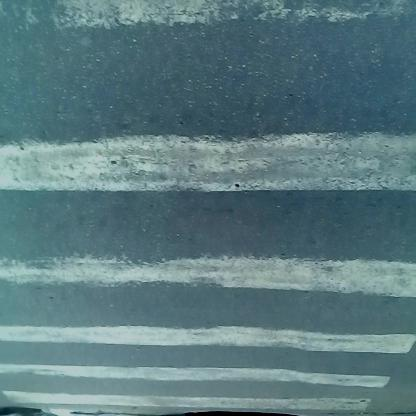crosswalk: (3, 88, 410, 404)
